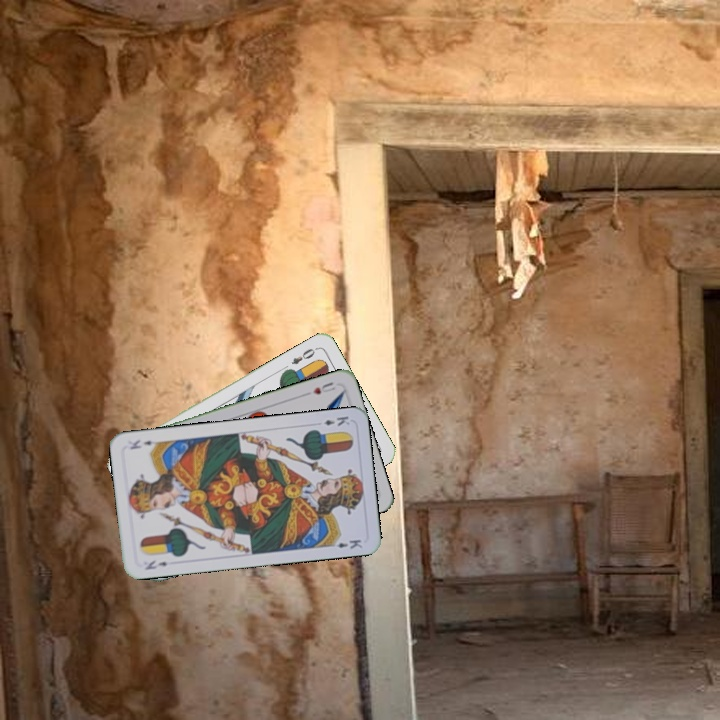EK: (320, 412, 352, 428), (141, 556, 170, 572)
EO: (287, 343, 320, 367)
HU: (301, 378, 338, 398)
